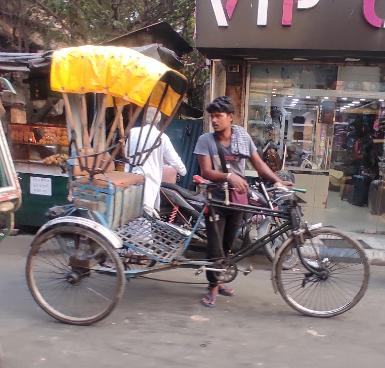Auto: (25, 44, 372, 332)
